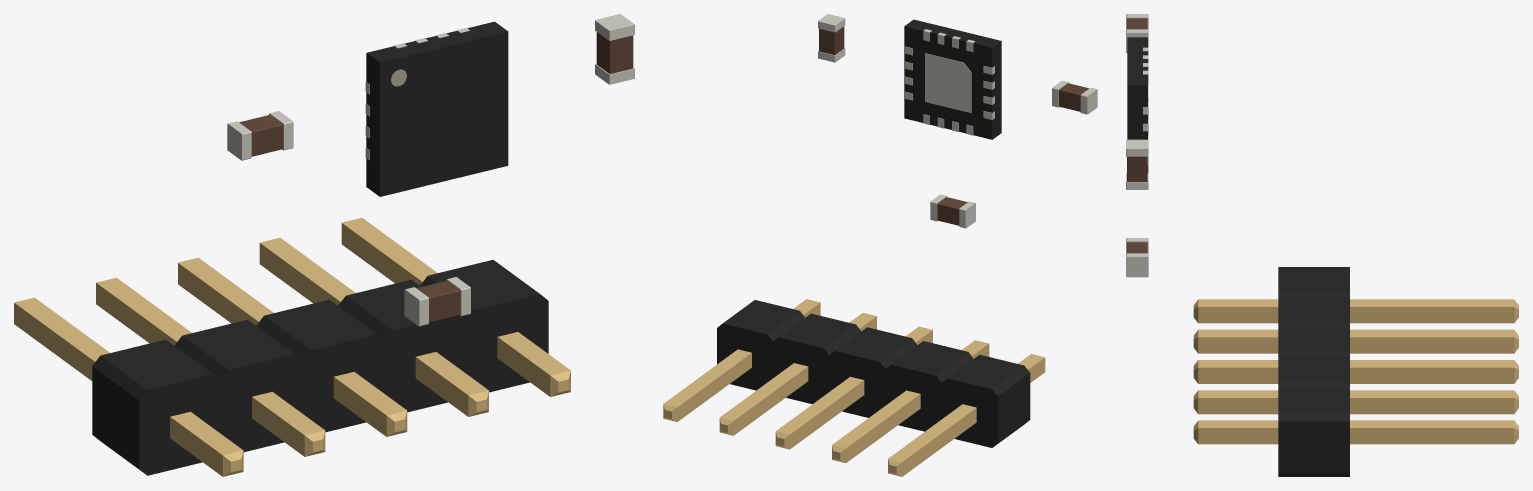
Rendered from adxl335.glb.
The picture shows the model from 3 angles, left to right: view 1: azimuth 30°, elevation 25°; view 2: azimuth 150°, elevation 25°; view 3: azimuth 270°, elevation 25°; orthographic projection. The views are drawn at different scales.
Visible parts, largest first — view 1: plastic-0.02-0.02-0.02, gold, metal-0.6, plastic-0.12-0.06-0.04; view 2: plastic-0.02-0.02-0.02, gold, metal-0.6, plastic-0.12-0.06-0.04; view 3: gold, plastic-0.02-0.02-0.02, metal-0.6, plastic-0.12-0.06-0.04.
Part boxes in pixels (x1=…): plastic-0.02-0.02-0.02: x1=92, y1=21, x2=548, y2=475; gold: x1=14, y1=218, x2=570, y2=476; metal-0.6: x1=227, y1=14, x2=634, y2=326; plastic-0.12-0.06-0.04: x1=239, y1=32, x2=633, y2=322; plastic-0.02-0.02-0.02: x1=717, y1=19, x2=1030, y2=447; gold: x1=663, y1=299, x2=1045, y2=476; metal-0.6: x1=818, y1=14, x2=1097, y2=228; plastic-0.12-0.06-0.04: x1=819, y1=26, x2=1088, y2=225; gold: x1=1193, y1=299, x2=1518, y2=444; plastic-0.02-0.02-0.02: x1=1127, y1=37, x2=1349, y2=476; metal-0.6: x1=1126, y1=14, x2=1148, y2=277; plastic-0.12-0.06-0.04: x1=1127, y1=18, x2=1147, y2=253.
Size of the model in its own units: 12.7 by 13.45 by 13.94.
